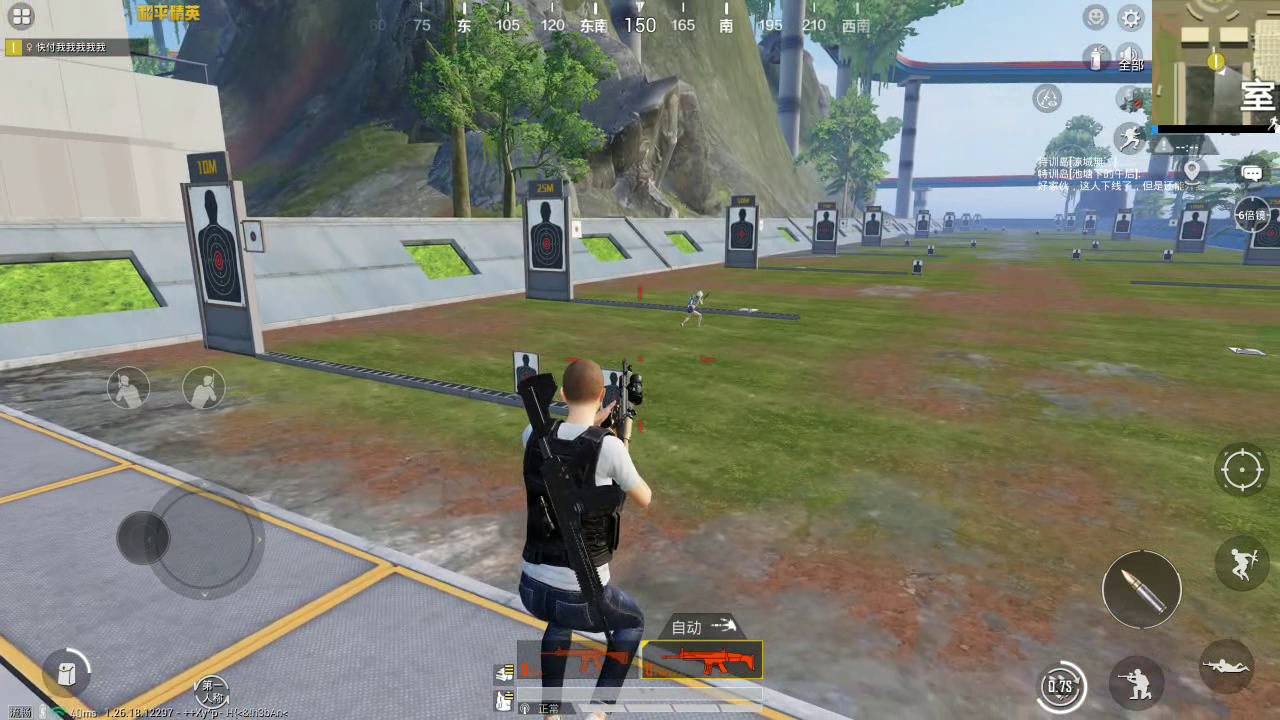enemy: (678, 289, 704, 328)
